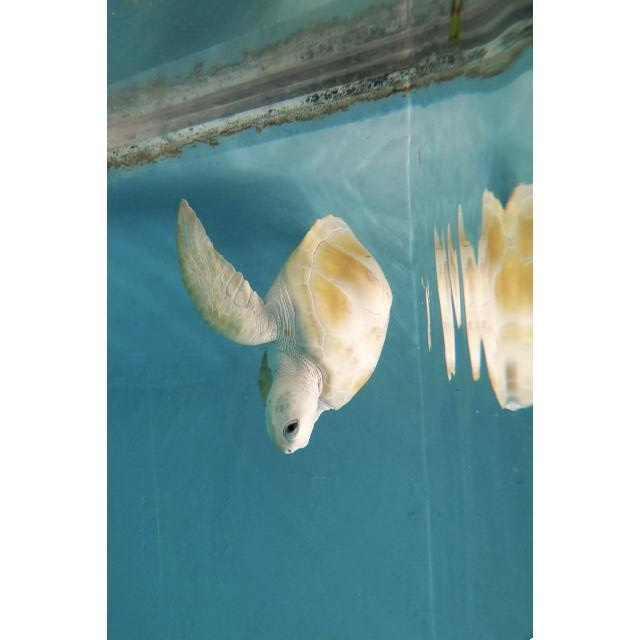turtle: (177, 200, 393, 456)
